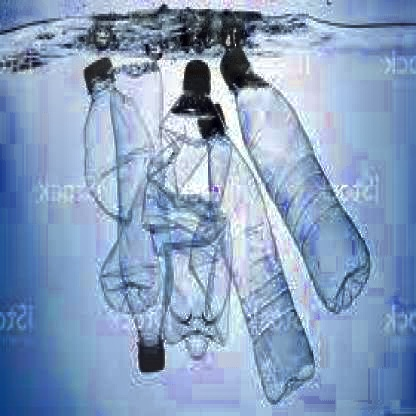pbottle: (212, 30, 384, 310), (188, 97, 314, 405), (158, 46, 233, 368), (78, 49, 164, 314), (108, 58, 172, 372)
